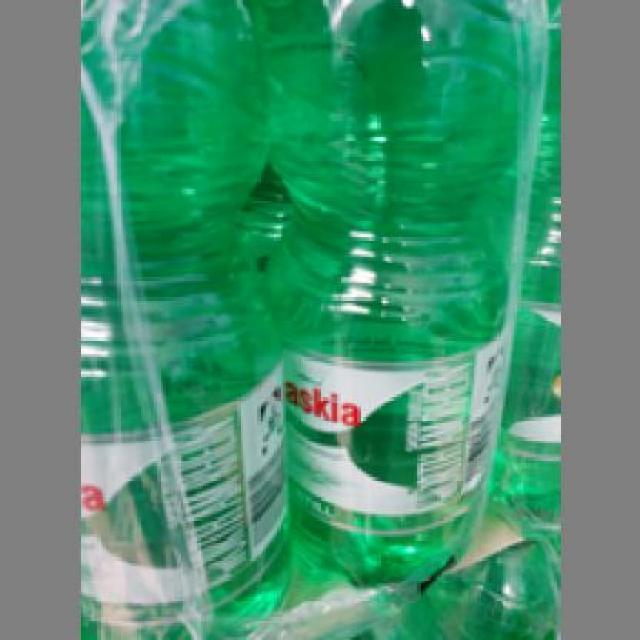Water: (260, 0, 540, 586), (78, 0, 292, 637)
